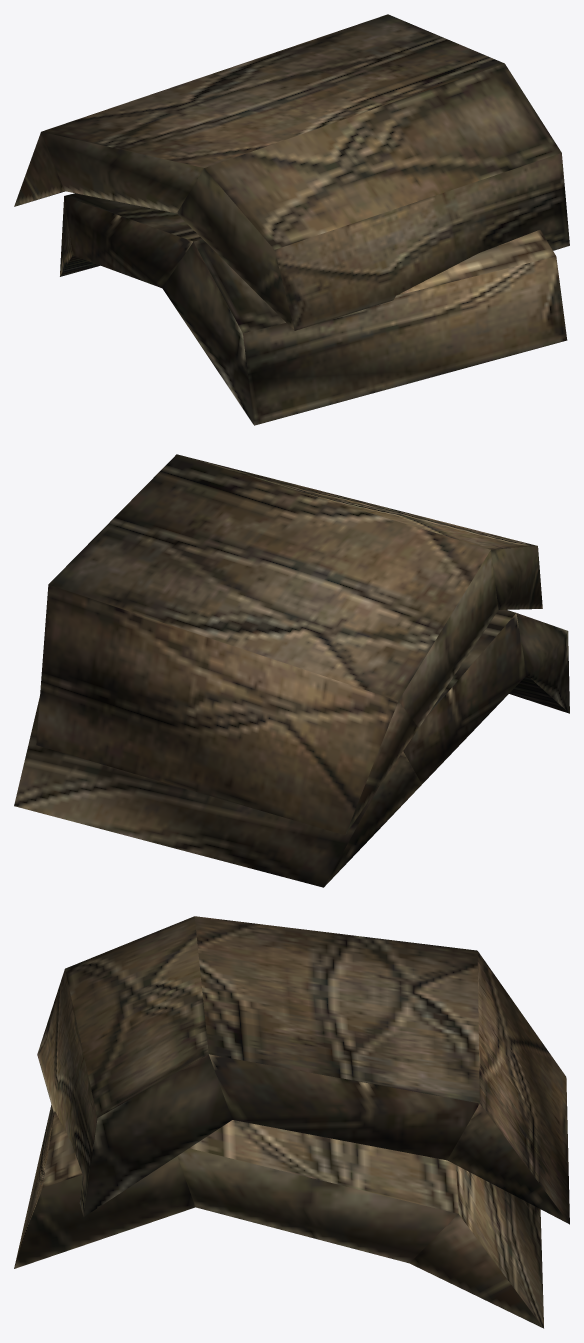
Rendered from ShoulderPads5__CMG.glb.
3 renders of one model, top to bottom at view 1: azimuth 30°, elevation 25°; view 2: azimuth 150°, elevation 25°; view 3: azimuth 270°, elevation 25°, orthographic. The views are drawn at different scales.
Parts seen in each view (by area): view 1: ShoulderPads5; view 2: ShoulderPads5; view 3: ShoulderPads5.
Part boxes in pixels (x1,y1,x2,y2): ShoulderPads5: [14, 14, 569, 425]; ShoulderPads5: [14, 454, 569, 887]; ShoulderPads5: [14, 916, 569, 1328].
Bounding box in the file's own units: 8.51 × 5.51 × 10.
Materials: 1 (1 with a texture image).
